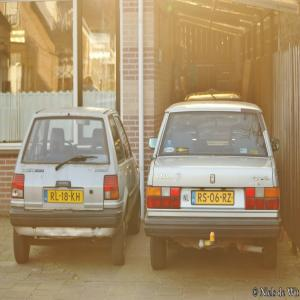Vehicle-registration-plate: (191, 193, 236, 206), (45, 190, 84, 204)
